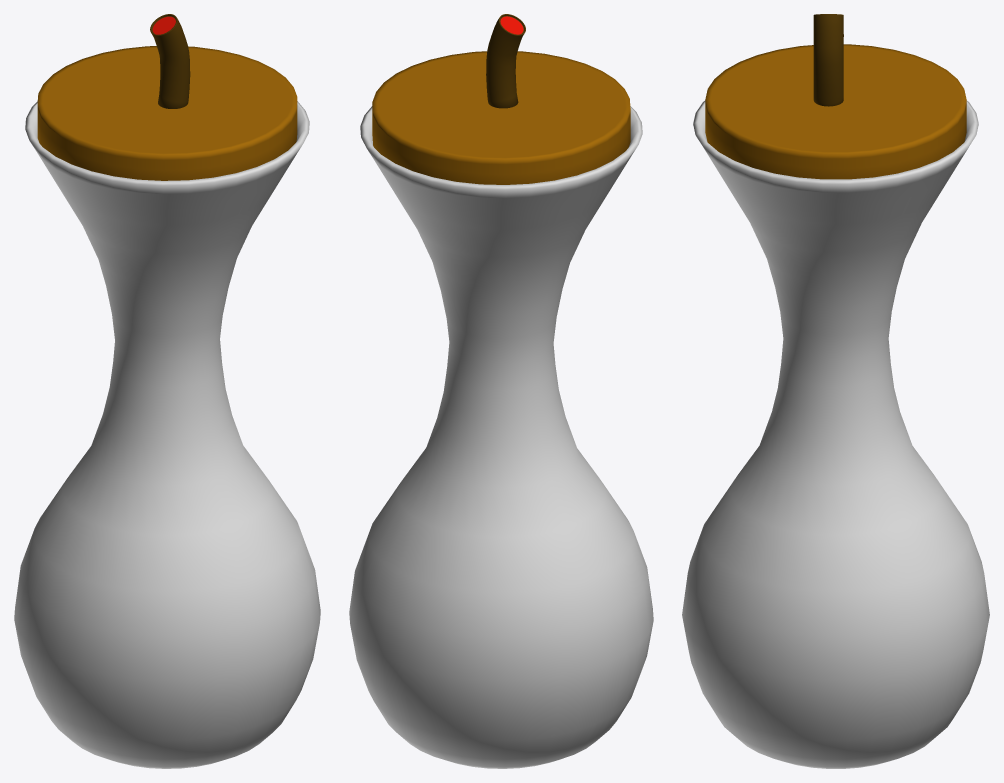
The model's file is toxinade.fbx.
The picture shows the model from 3 angles, left to right: view 1: azimuth 30°, elevation 25°; view 2: azimuth 150°, elevation 25°; view 3: azimuth 270°, elevation 25°; orthographic projection.
Parts seen in each view (by area): view 1: Cylinder, Cylinder.002, Cylinder.003; view 2: Cylinder, Cylinder.002, Cylinder.003; view 3: Cylinder, Cylinder.002, Cylinder.003.
Part boxes in pixels (x1=…): Cylinder: x1=14, y1=101, x2=320, y2=768; Cylinder.002: x1=37, y1=46, x2=297, y2=180; Cylinder.003: x1=150, y1=14, x2=190, y2=108; Cylinder: x1=349, y1=106, x2=653, y2=768; Cylinder.002: x1=372, y1=51, x2=630, y2=184; Cylinder.003: x1=486, y1=14, x2=525, y2=108; Cylinder: x1=682, y1=100, x2=989, y2=768; Cylinder.002: x1=705, y1=44, x2=966, y2=179; Cylinder.003: x1=813, y1=14, x2=843, y2=106.
Bounding box in the file's own units: 258 × 668 × 259.
